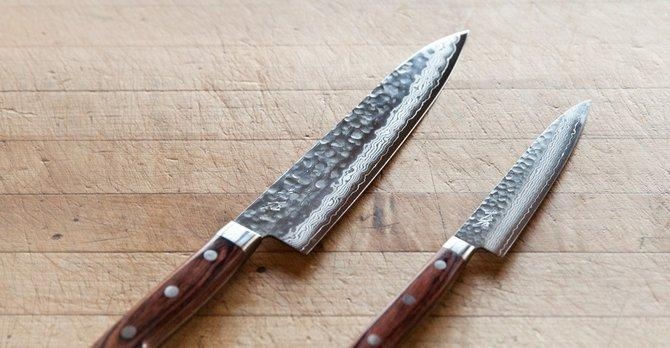faca: (92, 32, 467, 347), (352, 102, 589, 347)
